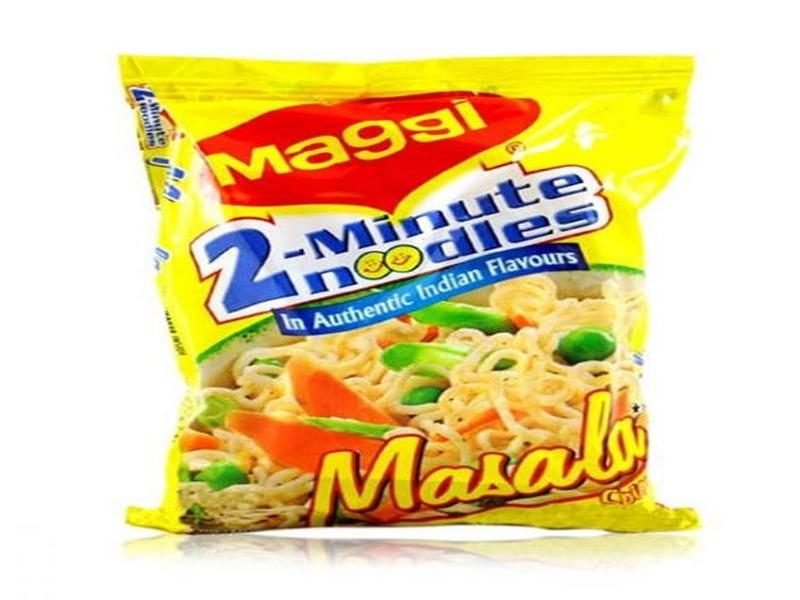maggi-small: (120, 53, 697, 532)
